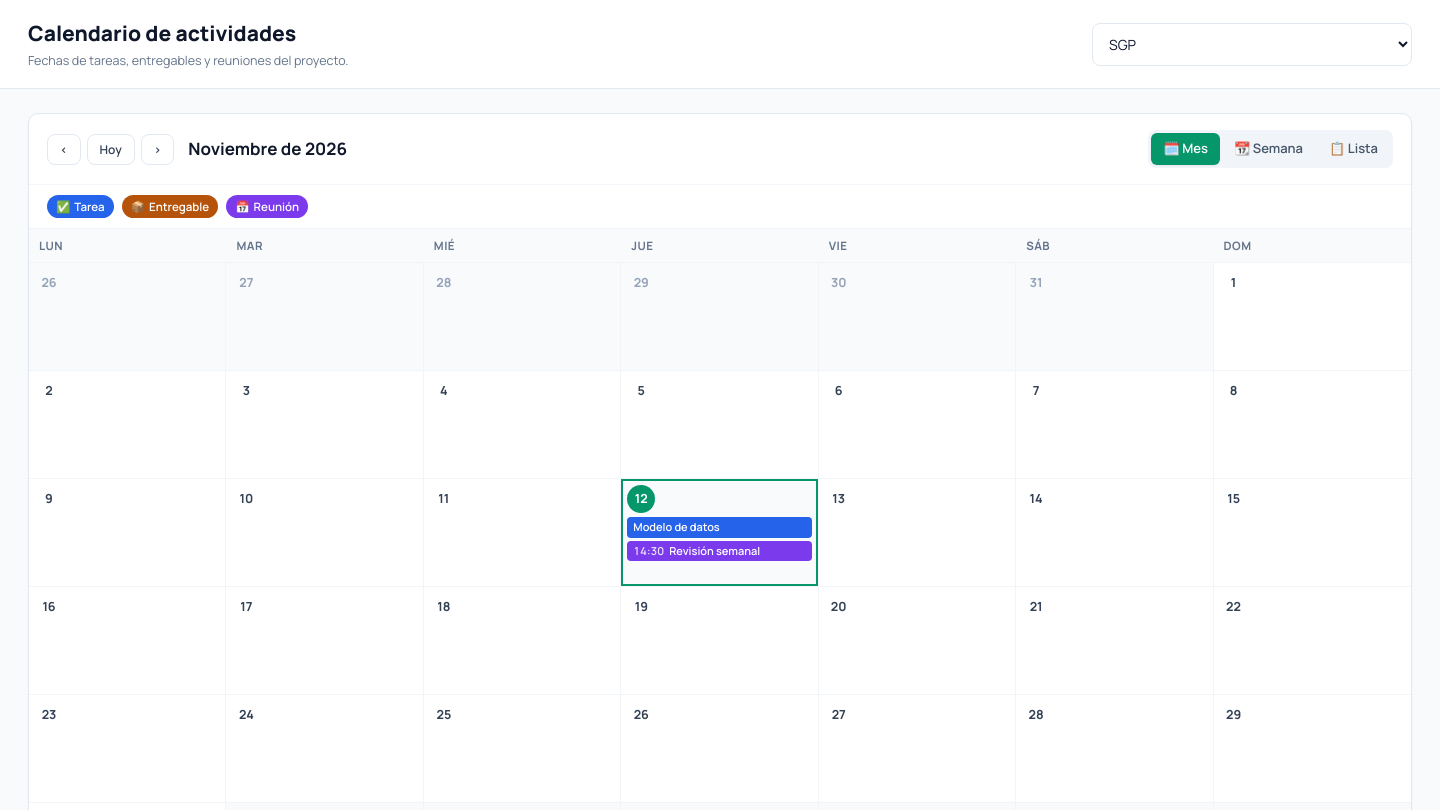
Test case: CalendarioPage › should switch to the week and list views
Click the button "📆 Semana": click(1268, 149) [1222,133,1315,165]
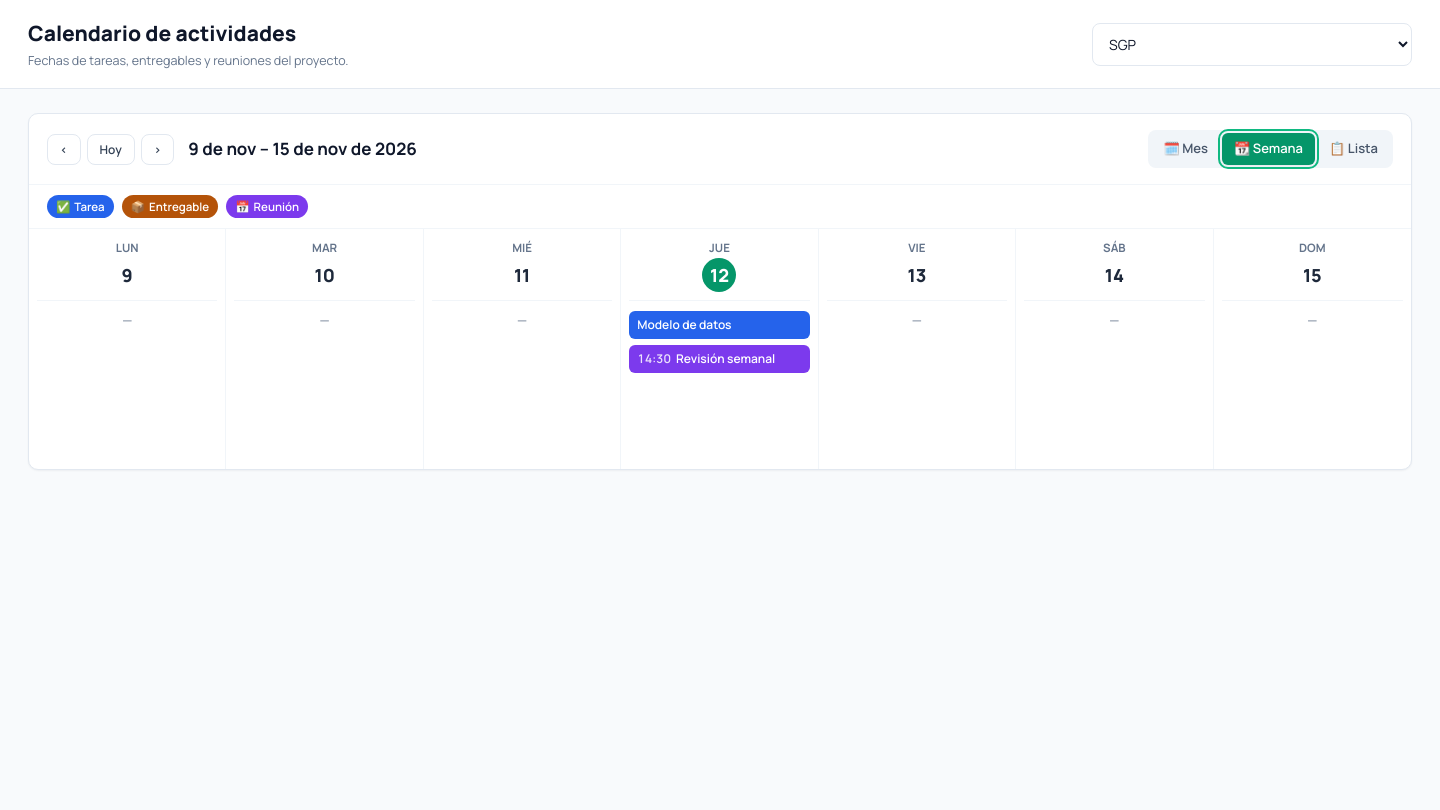
Expected: the element named "Jueves, 12 de noviembre" is shown, [621,229,819,469]
Click the button "📋 Lista": click(1354, 149) [1317,133,1390,165]
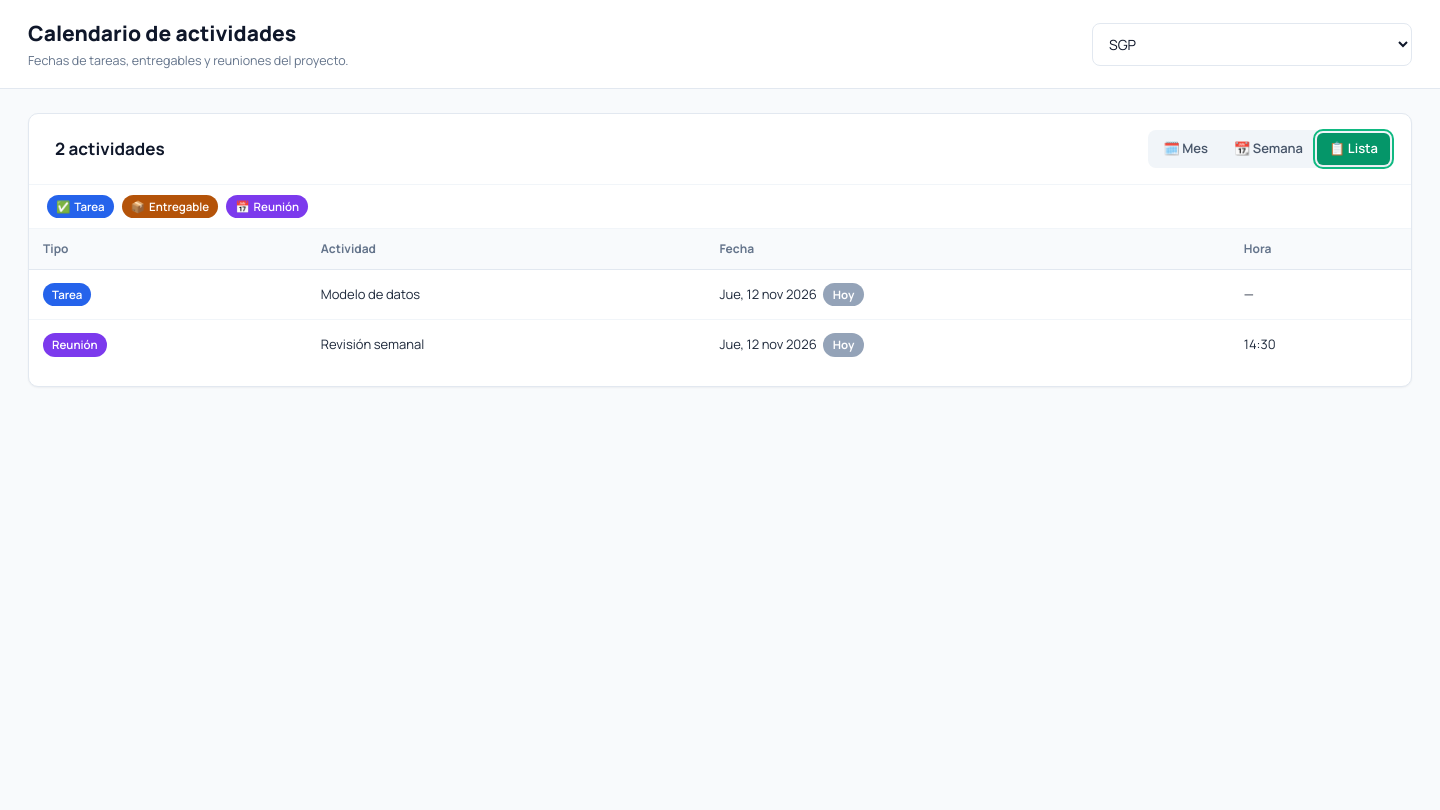
Expected: the cell "Modelo de datos" is shown, [307,270,705,320]
Expected: the table is shown, [29,229,1411,370]
